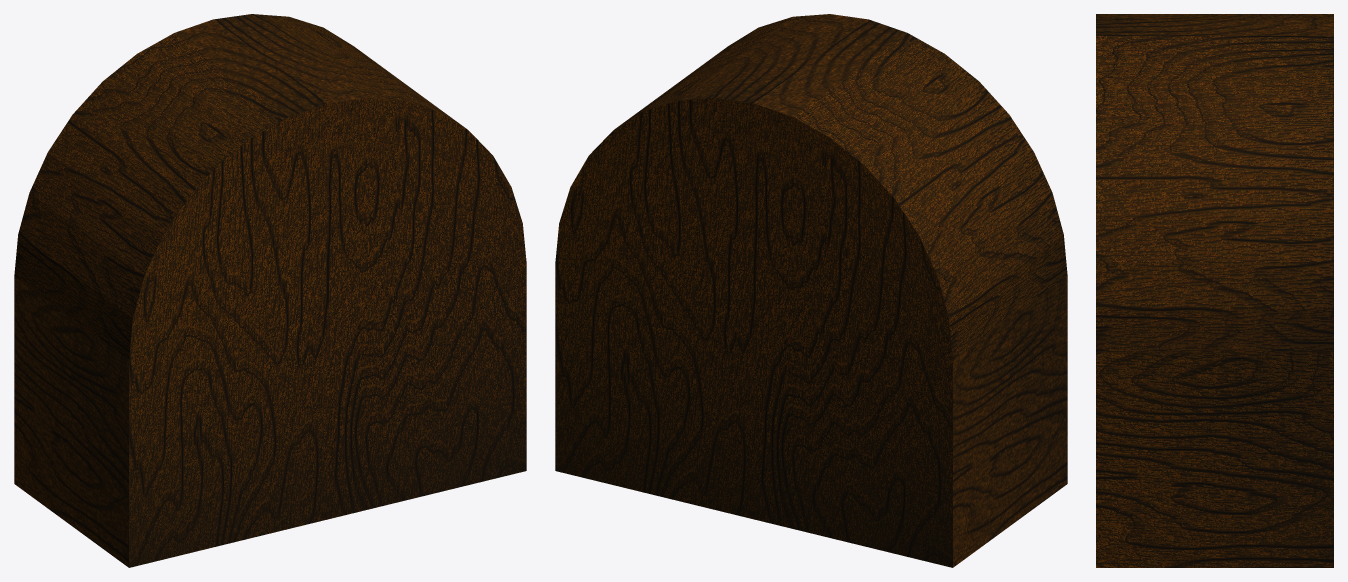
Rendered from door.fbx.
3 renders of one model, left to right at view 1: azimuth 30°, elevation 25°; view 2: azimuth 150°, elevation 25°; view 3: azimuth 270°, elevation 25°, orthographic. The views are drawn at different scales.
Parts seen in each view (by area): view 1: leftdoor, rightdoor; view 2: leftdoor, rightdoor; view 3: rightdoor, leftdoor.
Part boxes in pixels (box(x1,y1,x2,y2)): leftdoor: box(14, 19, 327, 567); rightdoor: box(213, 14, 526, 519); leftdoor: box(754, 19, 1067, 567); rightdoor: box(555, 14, 868, 519); rightdoor: box(1096, 36, 1333, 567); leftdoor: box(1096, 14, 1333, 35).
Bounding box in the file's own units: 100 × 100 × 50.
